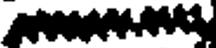Water: (3, 3, 216, 48)
